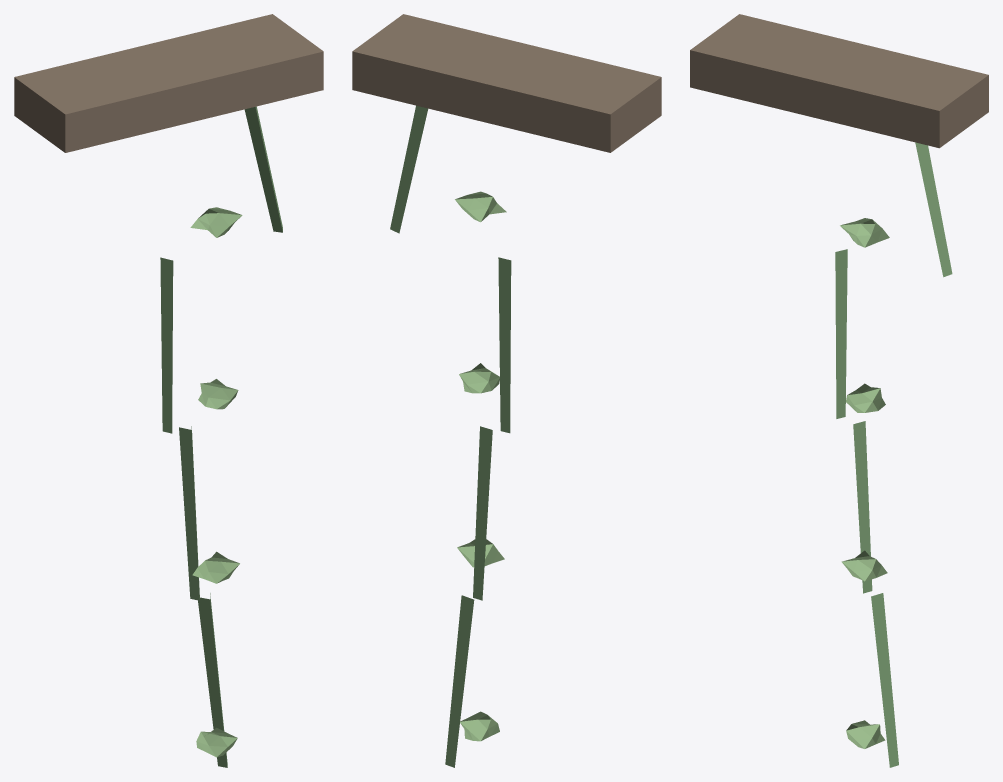
File: vine_v19.glb
3 views of the same model, side by side, from view 1: azimuth 30°, elevation 25°; view 2: azimuth 150°, elevation 25°; view 3: azimuth 330°, elevation 25° (orthographic). The views are drawn at different scales.
Visible parts, largest first — view 1: lod0; view 2: lod0; view 3: lod0.
Part boxes in pixels (x1,y1,x2,y2): lod0: (14,14,323,767); lod0: (352,14,661,767); lod0: (690,14,988,767).
Size of what is drawn, in the model's own units: 0.7 by 1.85 by 0.24.
